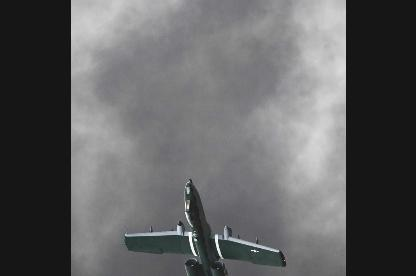A10: (123, 177, 286, 275)
